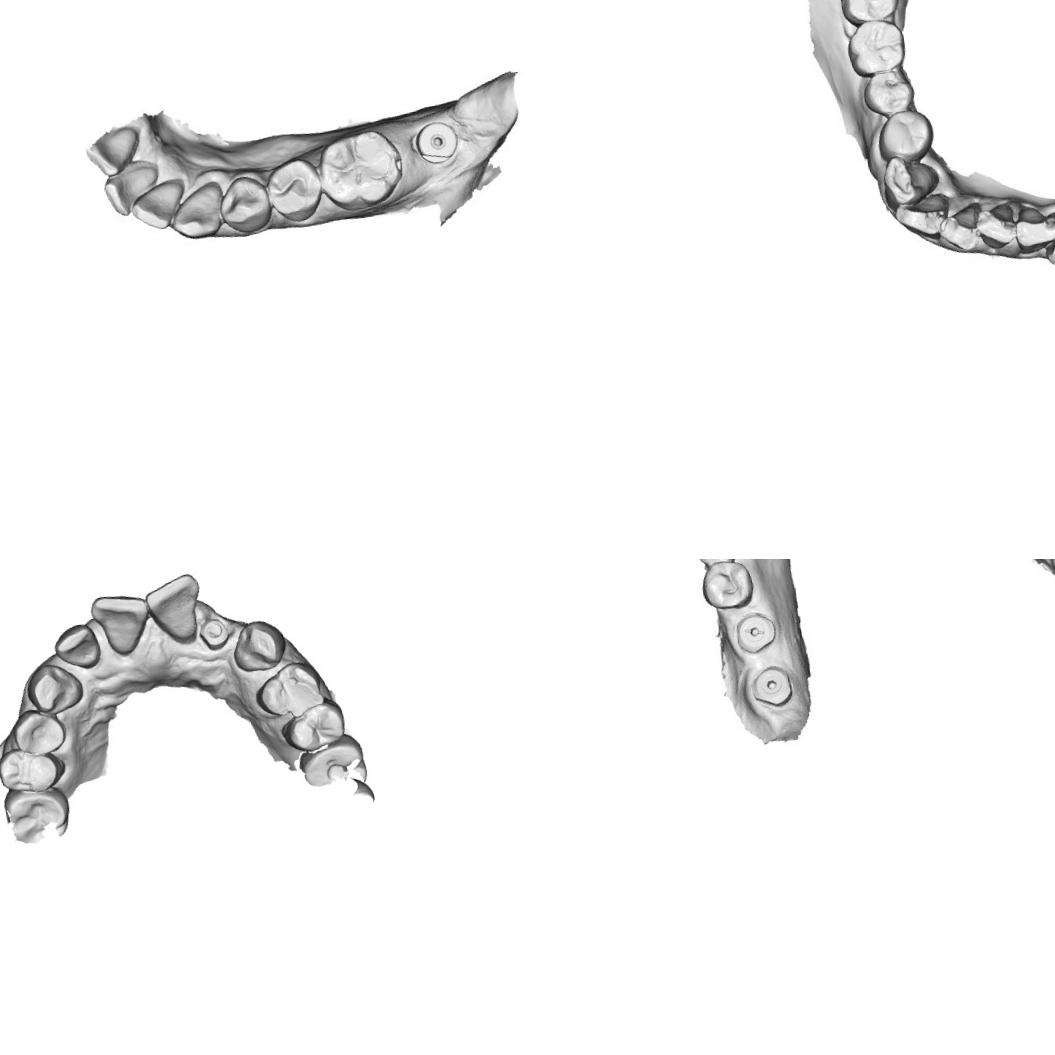canine: (876, 150, 942, 212), (22, 660, 86, 720), (168, 184, 228, 244), (229, 616, 290, 675), (1042, 210, 1055, 269)
implant: (412, 117, 464, 169), (750, 662, 790, 708), (196, 615, 232, 653)
implant_minus: (736, 610, 778, 652)
incisor: (140, 570, 208, 647), (88, 589, 155, 659), (98, 162, 162, 221), (82, 125, 142, 179), (130, 181, 184, 234), (51, 621, 104, 673), (890, 193, 949, 237), (938, 204, 986, 252), (976, 200, 1022, 246), (1014, 204, 1055, 254)
molar: (312, 123, 409, 216), (0, 781, 75, 846), (294, 730, 370, 793), (840, 15, 912, 80), (834, 0, 908, 28)
premolar: (252, 659, 326, 722), (261, 152, 323, 225), (277, 694, 350, 754), (213, 172, 272, 242), (0, 741, 68, 797), (873, 110, 940, 166), (860, 68, 922, 122), (10, 704, 70, 758), (699, 559, 757, 614)
